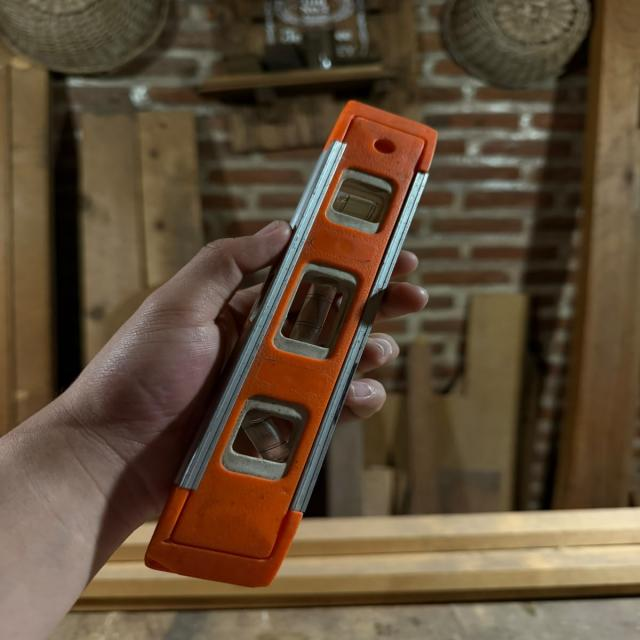Nivel: (117, 64, 491, 600)
